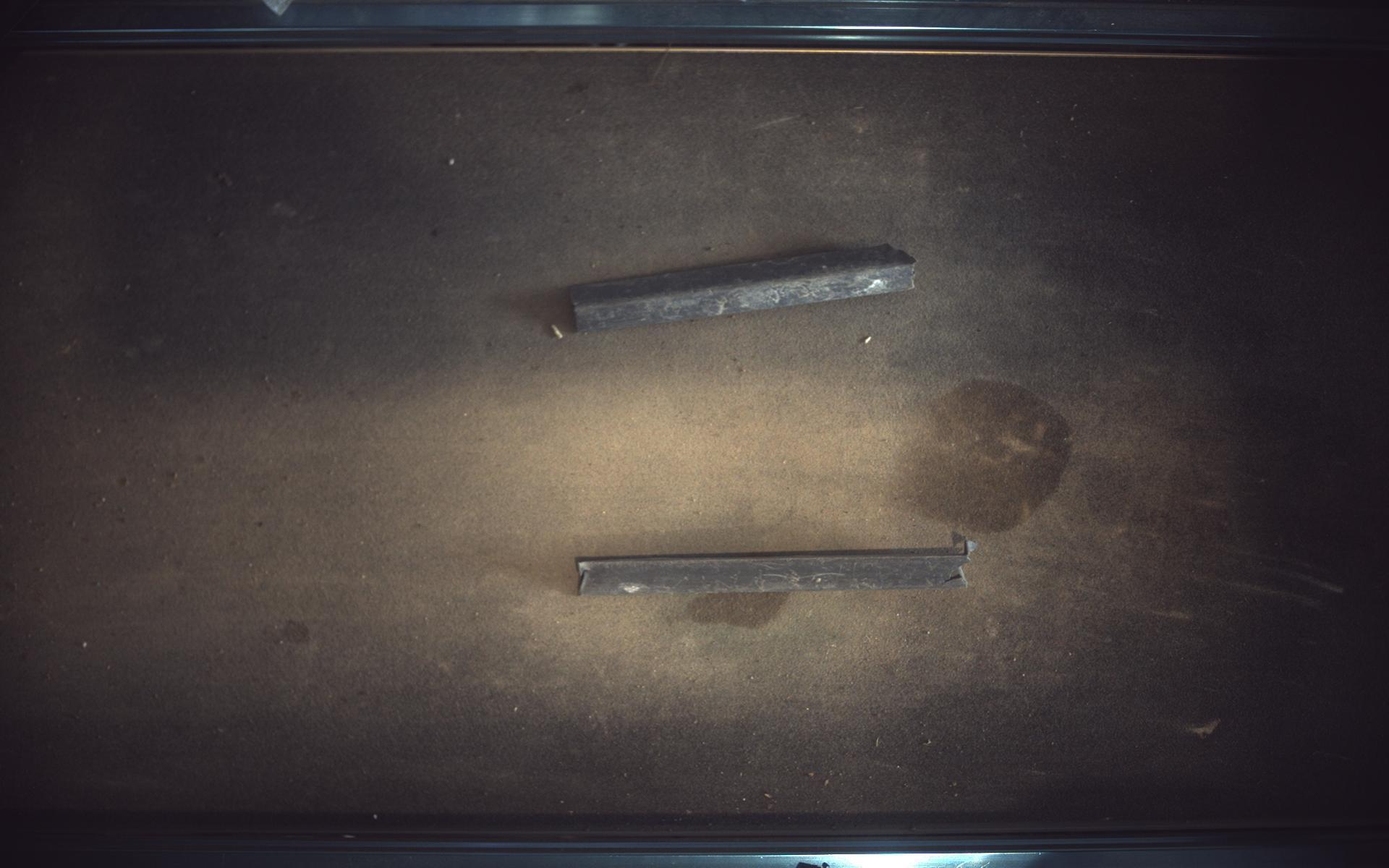plastic: (571, 244, 917, 331), (579, 535, 980, 596)
